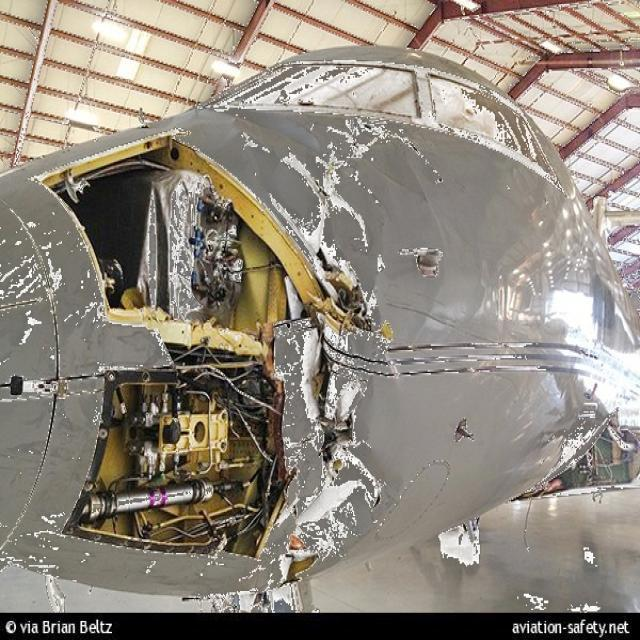crack: (283, 154, 368, 254), (358, 120, 444, 186)
dent: (356, 165, 444, 338), (231, 116, 325, 157)
